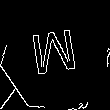M_S: (29, 29, 82, 85)
